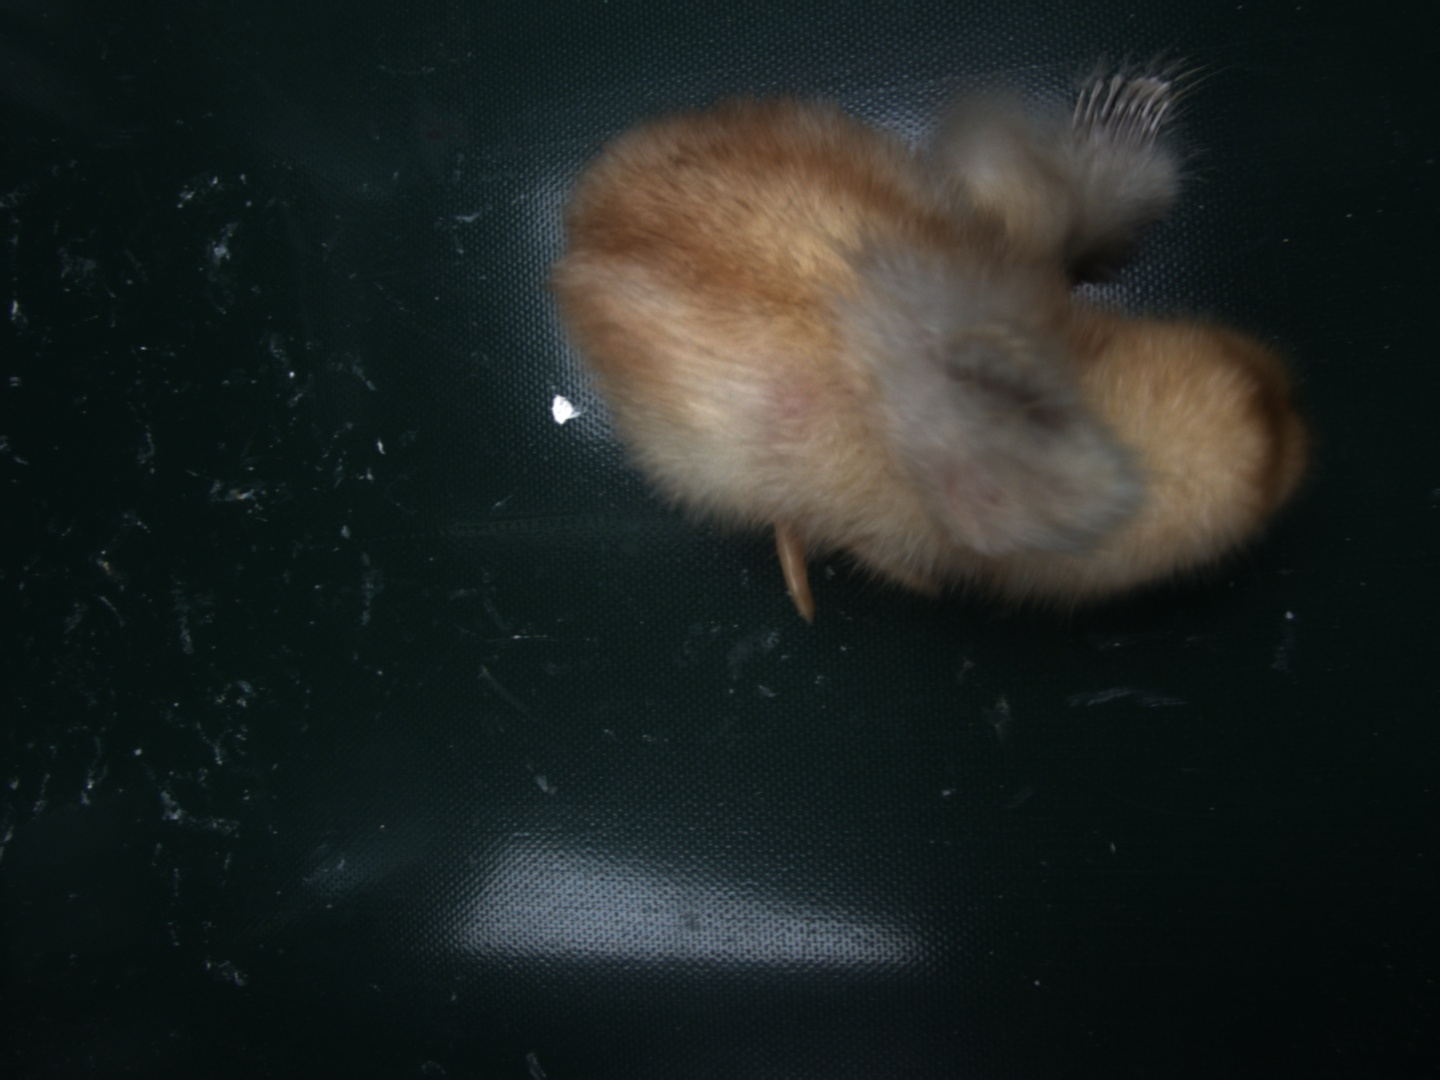female: (1068, 73, 1168, 153)
